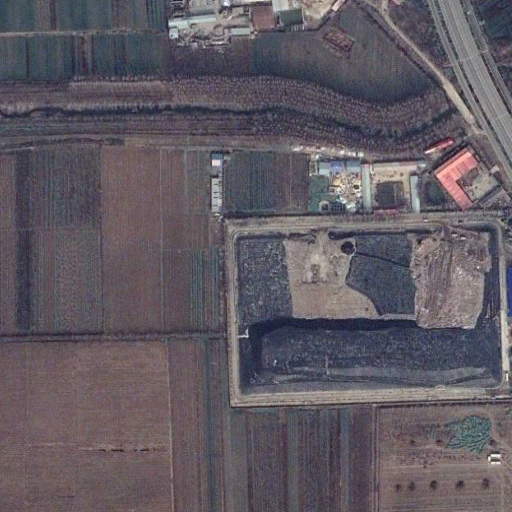lf: (219, 215, 512, 401)
